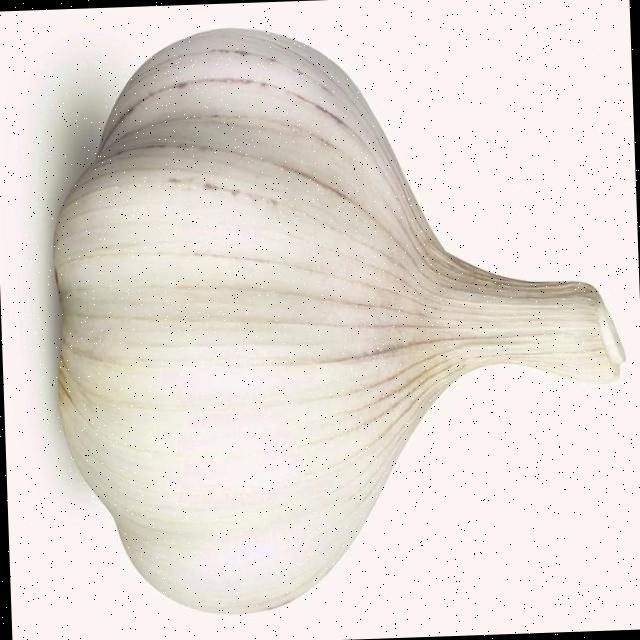garlic: (53, 29, 621, 613)
